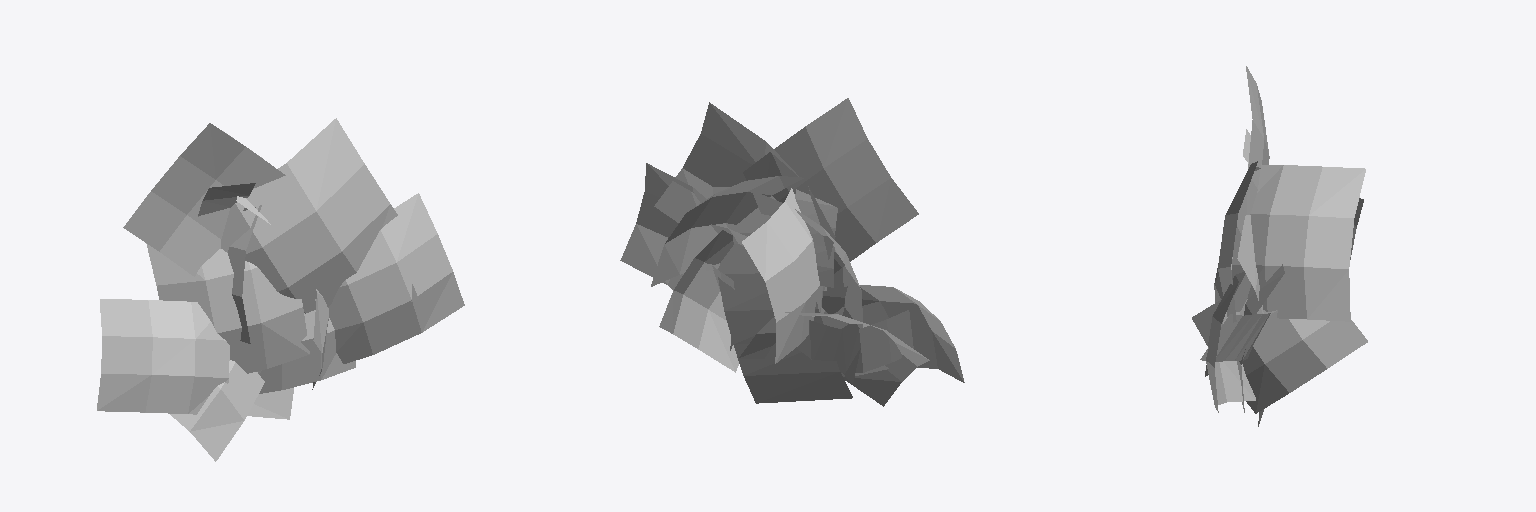
File: bushes01_02_snow.obj
3 views of the same model, side by side, from view 1: azimuth 30°, elevation 25°; view 2: azimuth 150°, elevation 25°; view 3: azimuth 270°, elevation 25° (orthographic).
Visible parts, largest first — view 1: bushes01_02_snow; view 2: bushes01_02_snow; view 3: bushes01_02_snow.
Boxes of the visible parts, x1,y1,x2,y2 form: bushes01_02_snow: [97, 118, 464, 461]; bushes01_02_snow: [620, 98, 964, 406]; bushes01_02_snow: [1192, 66, 1367, 426].
Size of the model in its own units: 101 by 87.41 by 43.53.